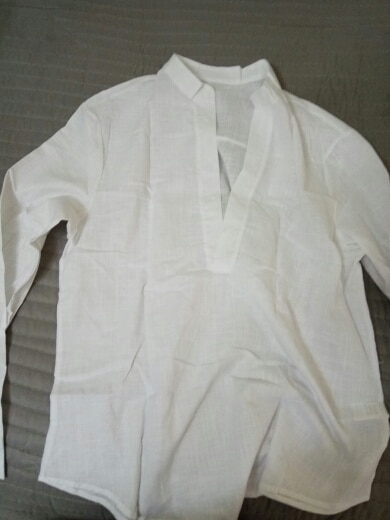shirts: (15, 59, 390, 512)
